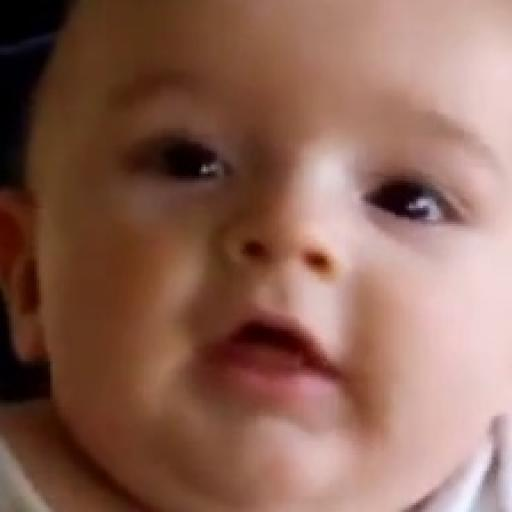Autism: (64, 16, 496, 512)
